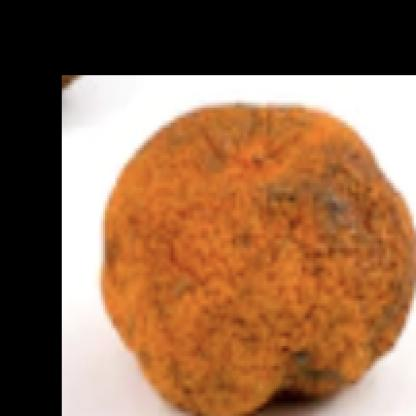rotten: (104, 101, 416, 416)
